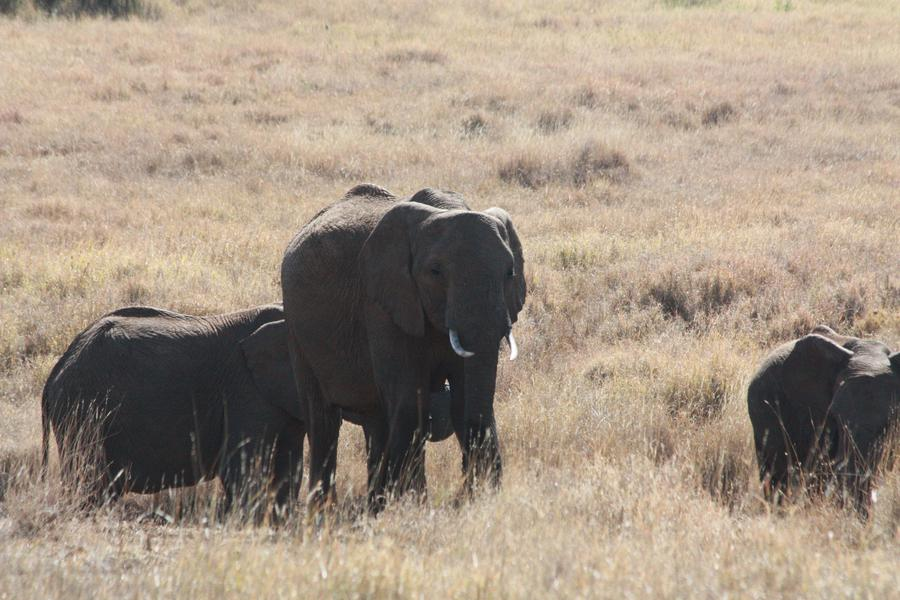elephant: (378, 203, 540, 389)
